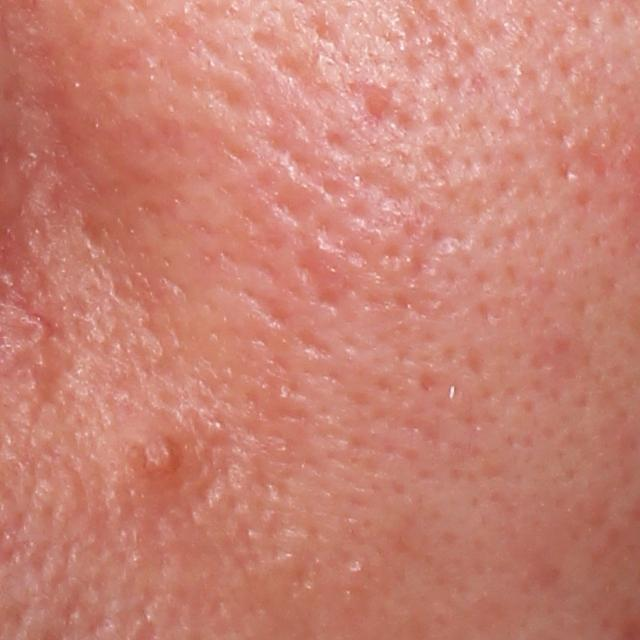atrophic_scar: (10, 338, 77, 429), (299, 246, 364, 319), (356, 85, 422, 147), (318, 117, 370, 164)
papule: (123, 430, 191, 489)
